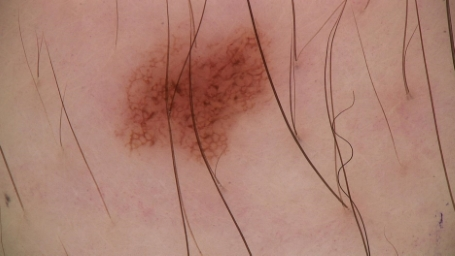nevus: (120, 35, 272, 167)
